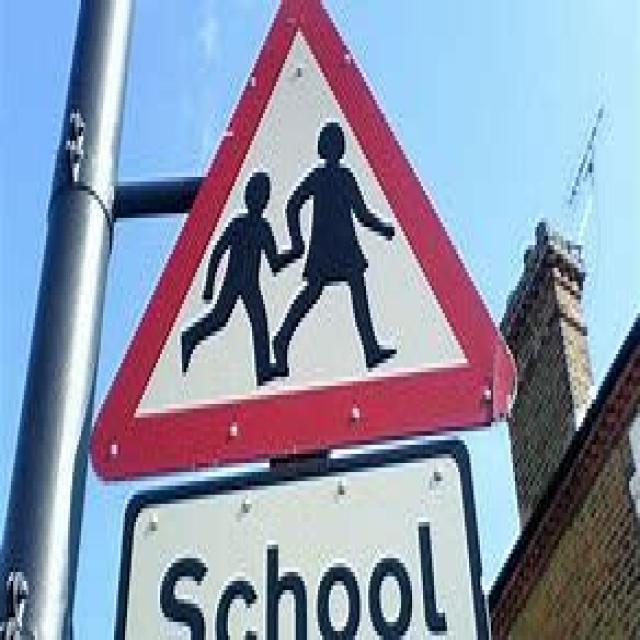school ahead: (88, 15, 518, 468)
